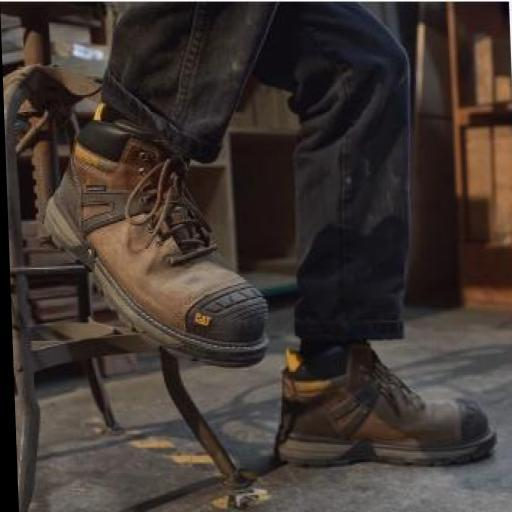safety_boots: (28, 130, 274, 368), (284, 342, 498, 467)
